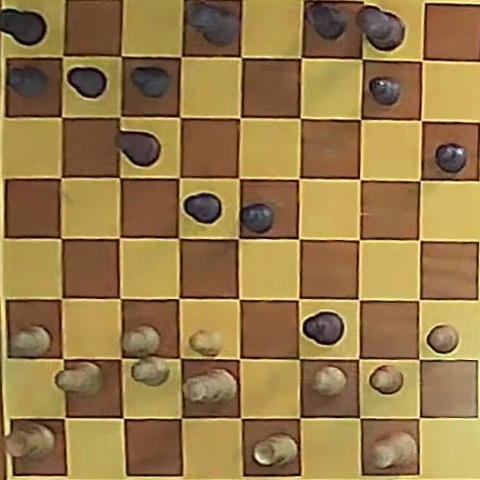black-bishop: (302, 311, 343, 345)
black-king: (357, 6, 405, 51)
black-knight: (116, 131, 160, 167)
black-pawn: (131, 67, 172, 98), (7, 66, 48, 97), (67, 67, 107, 98), (183, 193, 221, 224), (241, 203, 274, 233), (435, 143, 467, 173), (369, 77, 401, 105)
black-queen: (186, 2, 239, 46)
black-rook: (0, 8, 47, 47), (306, 2, 348, 41)
white-bishop: (56, 362, 102, 395)
white-king: (372, 431, 416, 469)
white-pawn: (11, 325, 52, 357), (122, 325, 160, 356), (131, 356, 170, 386), (312, 366, 347, 396), (370, 365, 403, 394), (427, 325, 459, 353), (189, 329, 222, 356)
white-queen: (184, 370, 237, 404)
white-rook: (6, 422, 56, 460), (253, 433, 297, 467)
